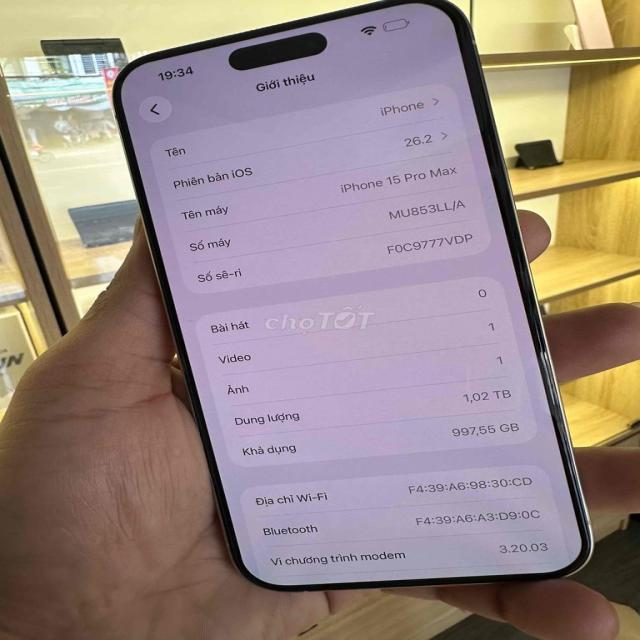gen_15: (86, 0, 598, 602)
